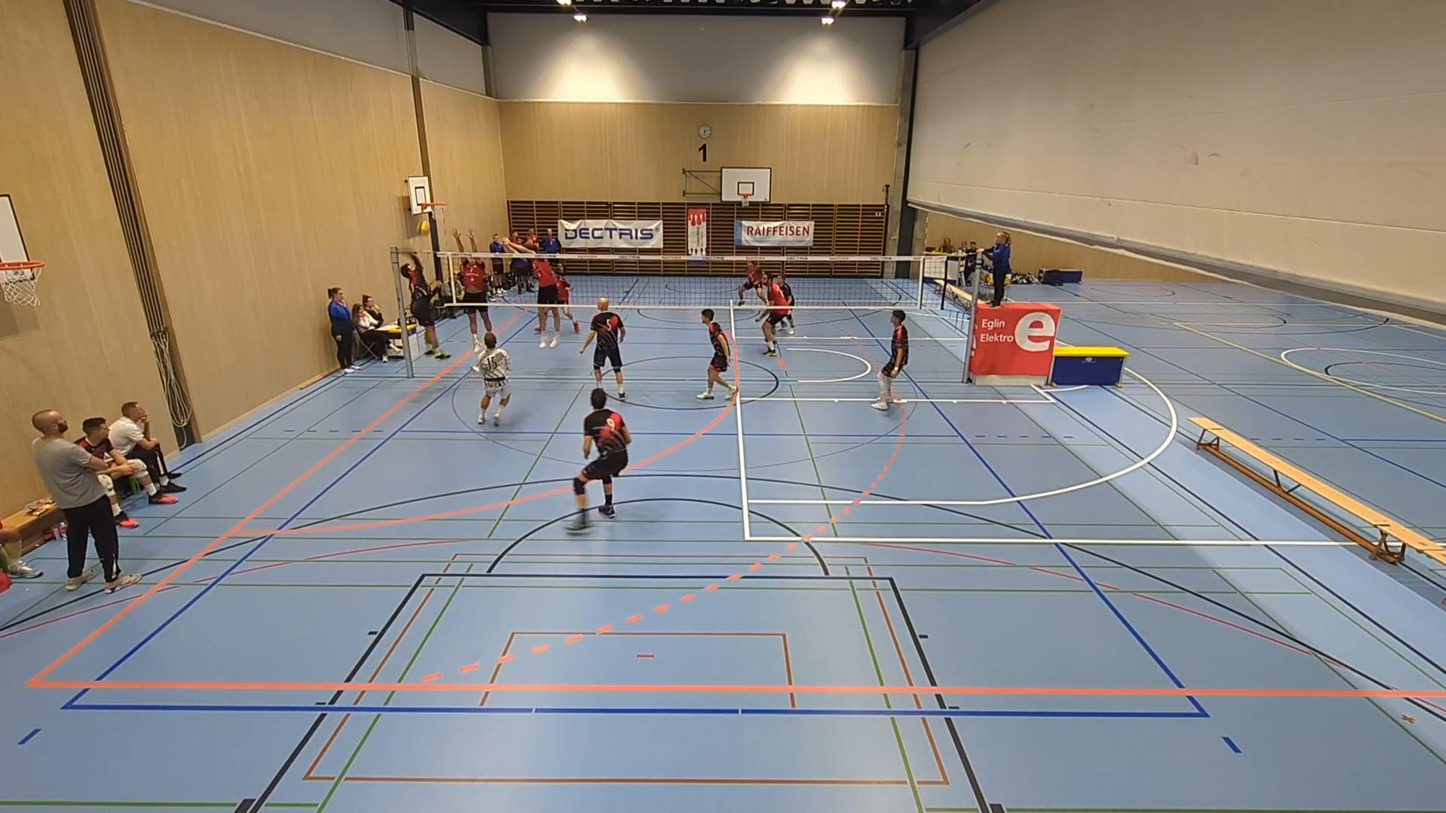attacco: (393, 248, 458, 363)
muro: (498, 231, 569, 351), (448, 226, 496, 360)
